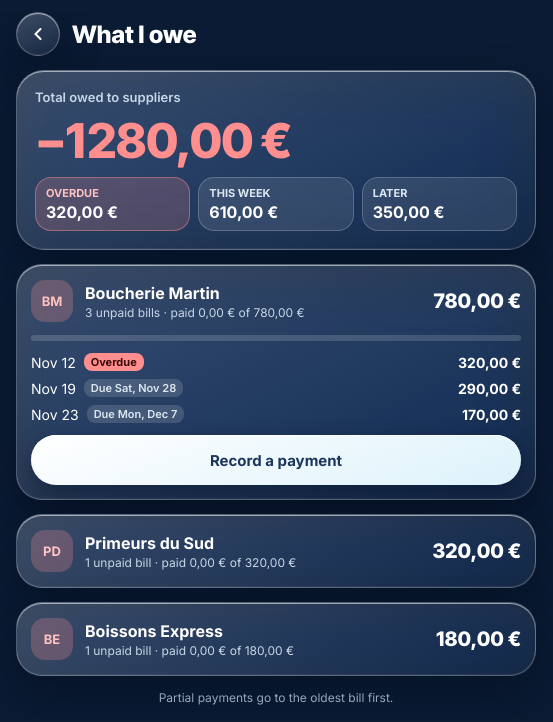
Test: confirm is disabled at 0
Step 1. Click the button "Record a payment" → (276, 460), box [31, 435, 521, 485]
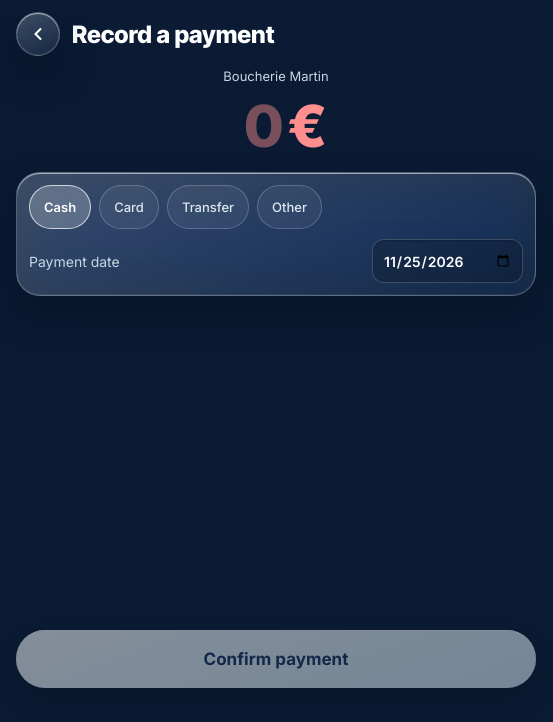
Result: the button "Confirm payment" is disabled at [16, 630, 536, 688]
